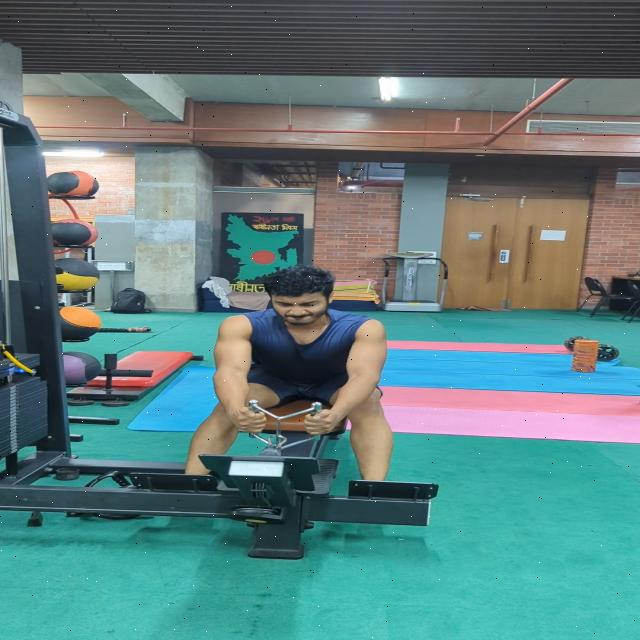Normal_RowingMachineExercise: (180, 264, 394, 484)
